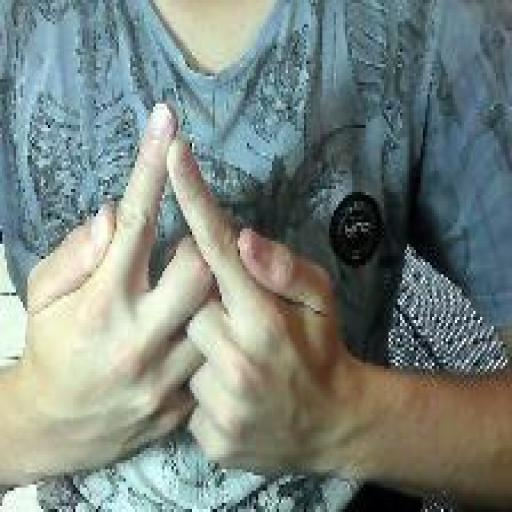Uma -horse-: (19, 94, 344, 484)
